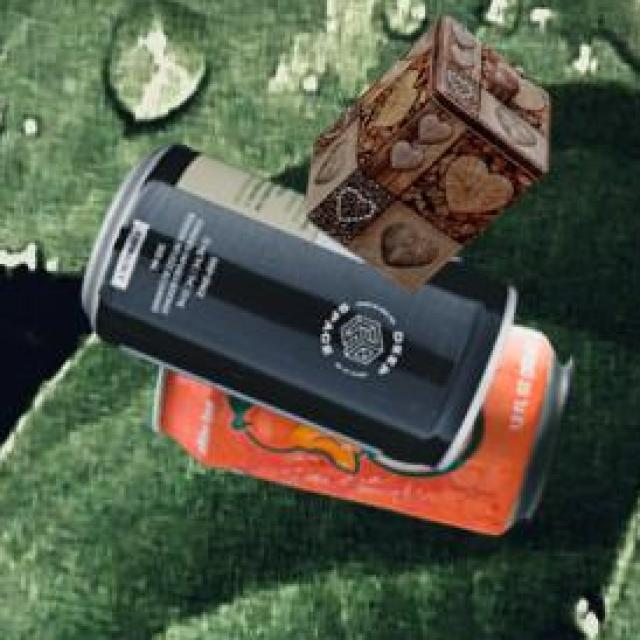logam: (78, 141, 513, 468), (151, 321, 573, 531), (302, 13, 545, 288)
